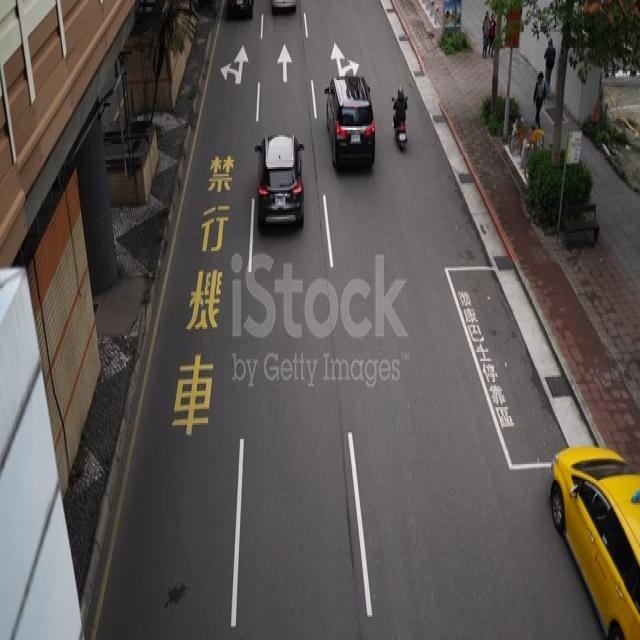Car: (544, 426, 640, 640), (254, 126, 310, 239), (324, 66, 378, 174)
Motorcycle: (388, 82, 413, 160)
